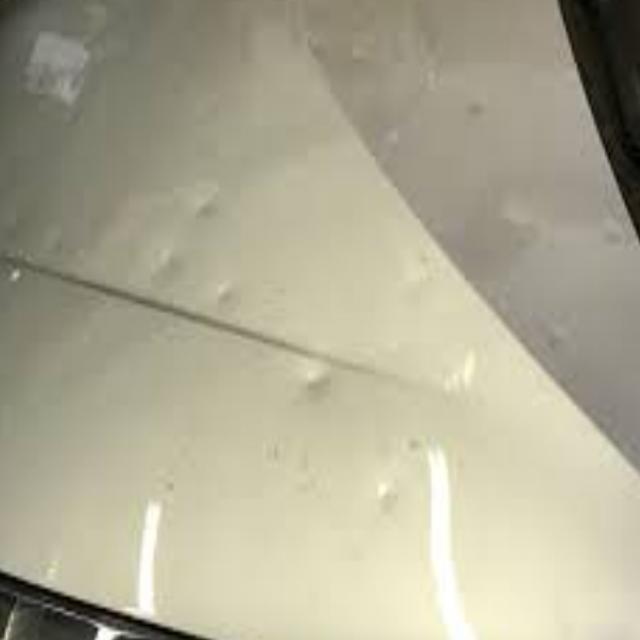dents: (198, 258, 250, 343), (290, 347, 340, 433), (588, 204, 638, 285), (38, 211, 82, 292), (367, 104, 414, 178), (536, 314, 581, 386), (458, 82, 503, 152), (0, 206, 35, 281), (191, 174, 229, 243), (371, 475, 413, 536), (149, 246, 182, 310), (296, 24, 324, 69)
